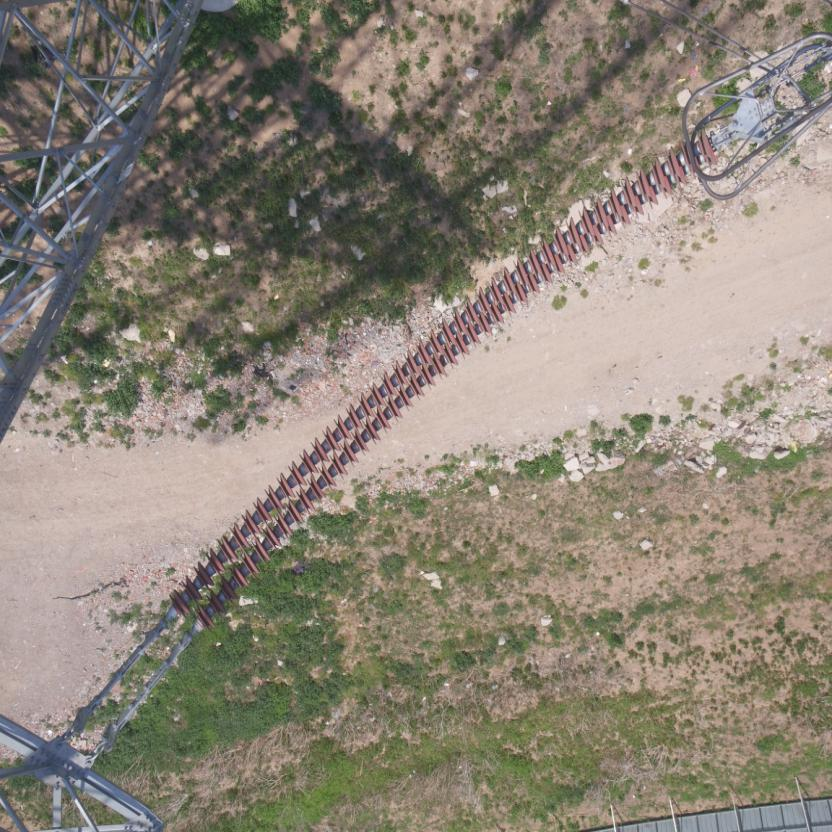insulator: (140, 108, 750, 670)
